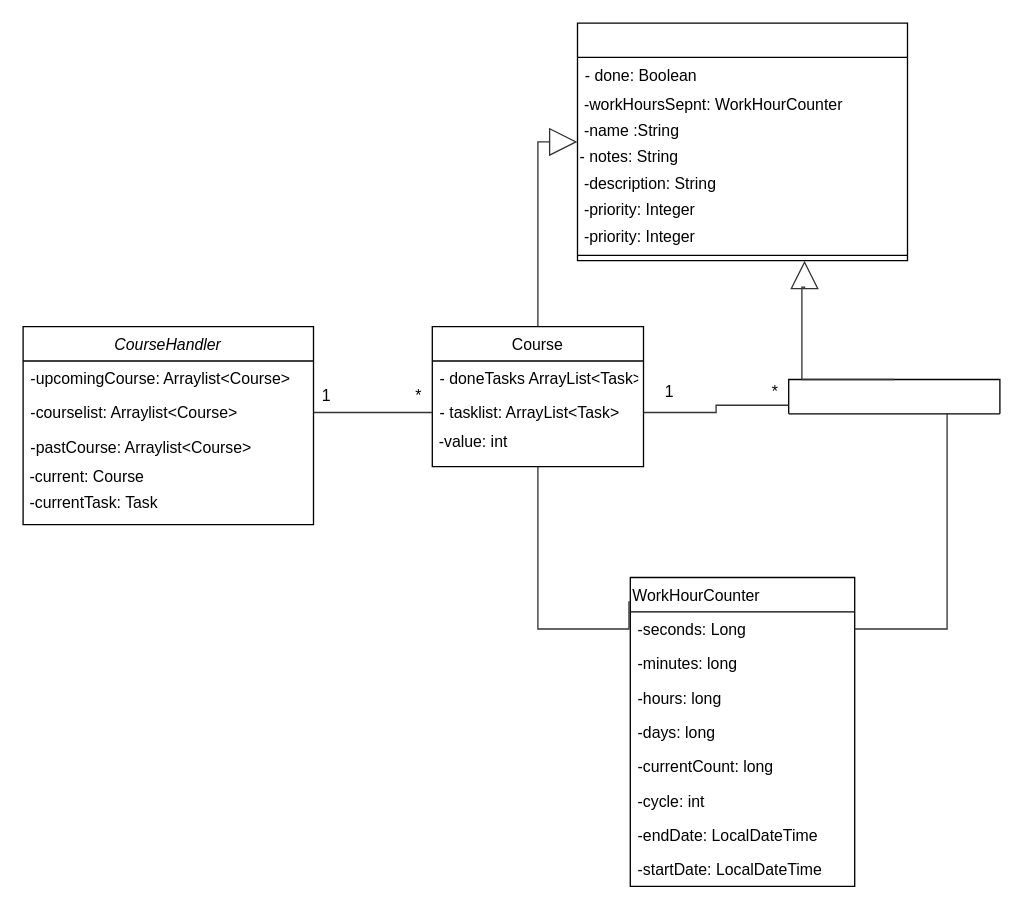
The diagram is 1023 pixels wide and 913 high, and some of its shapes have lost their labels. Each missing label, with the box of its shape:
BasicTask: (576, 22, 908, 261)
Task: (787, 378, 1000, 414)
